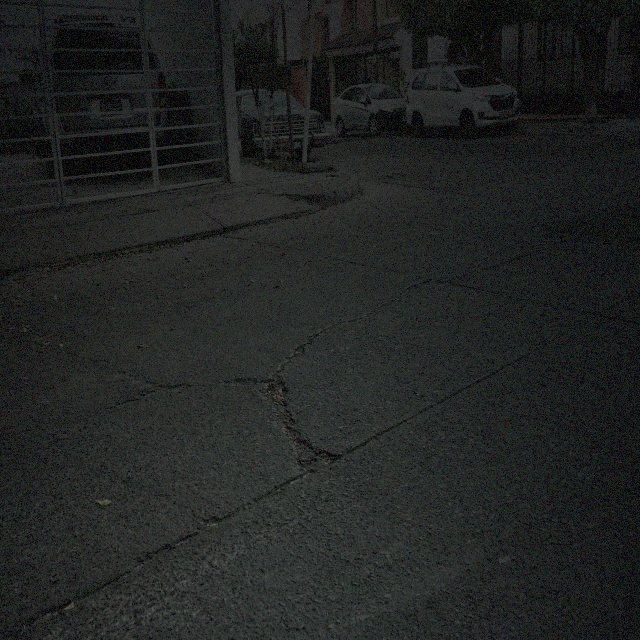pothole: (262, 374, 336, 466), (200, 517, 224, 528)
